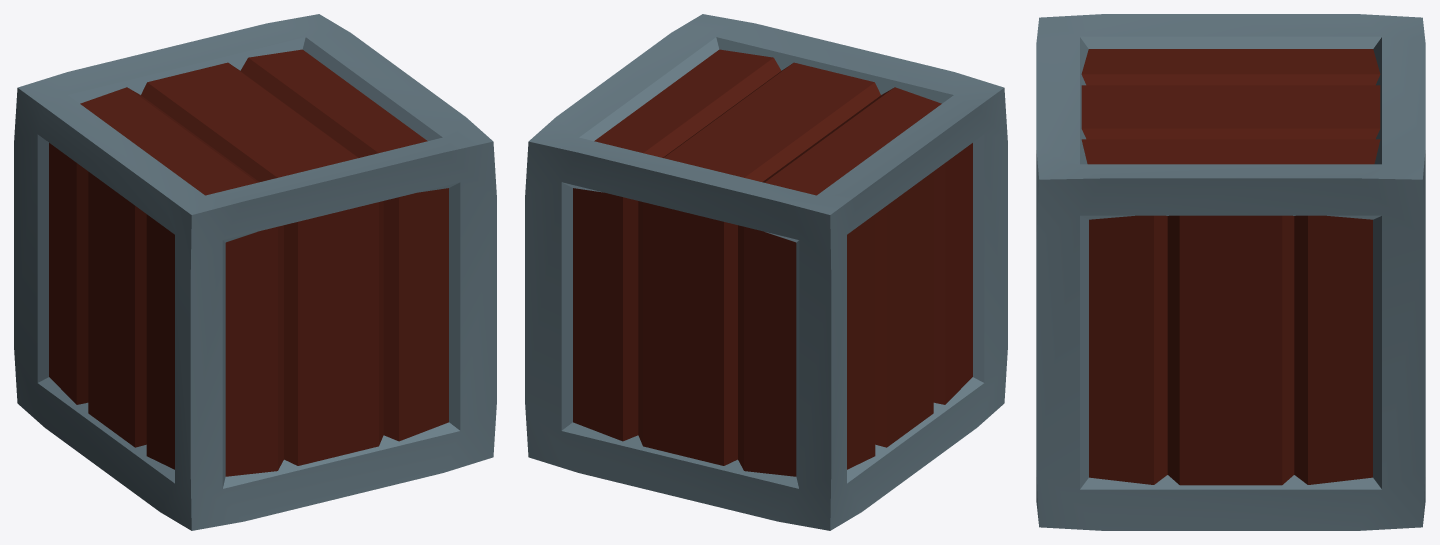
The model's file is crate.obj.
3 views of the same model, side by side, from view 1: azimuth 30°, elevation 25°; view 2: azimuth 150°, elevation 25°; view 3: azimuth 270°, elevation 25° (orthographic). The views are drawn at different scales.
Parts seen in each view (by area): view 1: crate_Cube.5959; view 2: crate_Cube.5959; view 3: crate_Cube.5959.
Boxes of the visible parts, box(x1,y1,x2,y2) form: crate_Cube.5959: box(14, 14, 496, 530); crate_Cube.5959: box(525, 14, 1007, 530); crate_Cube.5959: box(1036, 14, 1425, 530).
Bounding box in the file's own units: 0.9137 × 0.9137 × 0.9137.
